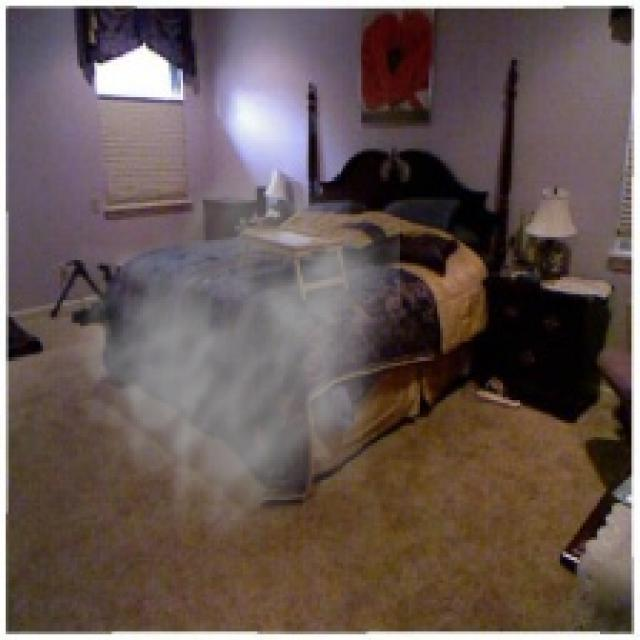Smoke: (40, 140, 400, 557)
